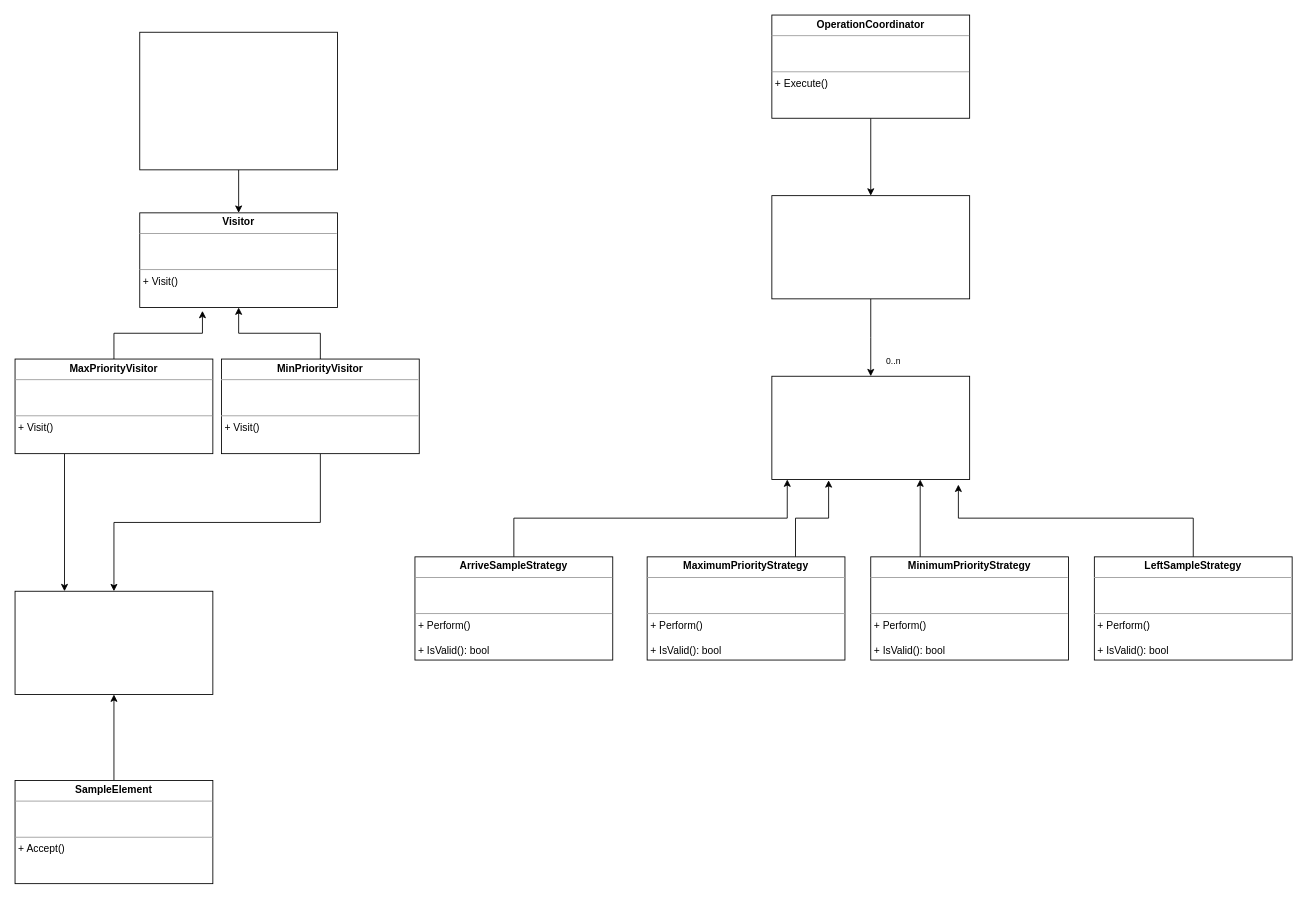
Image size: 1307x899. Some labels were removed from this diagram. The centre of each missing label's shape, as x and y in pixels:
"Element + Accept()" belongs at point (113, 642).
"Laboratory + AddSample() + RemoveSample() + Accept()" belongs at point (238, 100).
"OperationFactory + GetOperation()" belongs at point (870, 247).
"OperationStrategy + SampleId: string + Perform() + IsValid() : bool" belongs at point (870, 427).
